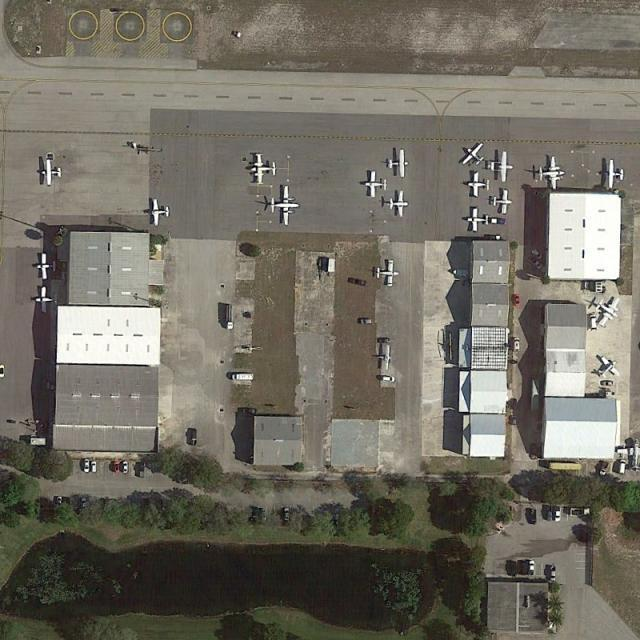vehicle: (225, 304, 233, 330), (530, 256, 542, 270), (232, 372, 254, 379), (554, 506, 562, 522), (600, 461, 609, 475), (351, 278, 366, 286), (618, 459, 626, 474), (532, 247, 542, 259), (138, 462, 145, 478), (534, 190, 546, 199), (491, 218, 506, 225), (530, 509, 537, 524), (510, 562, 517, 576), (191, 429, 197, 445), (547, 506, 553, 521), (550, 566, 556, 581), (284, 508, 290, 521), (529, 561, 535, 574), (114, 462, 120, 474), (382, 376, 394, 382), (514, 294, 520, 306), (514, 338, 520, 350), (378, 338, 390, 344), (359, 319, 373, 324), (521, 560, 526, 574), (91, 461, 97, 472), (122, 462, 128, 473), (84, 459, 89, 472), (261, 509, 266, 522), (601, 381, 614, 386), (606, 392, 616, 397), (511, 415, 516, 425), (82, 498, 86, 508), (58, 497, 62, 506)
